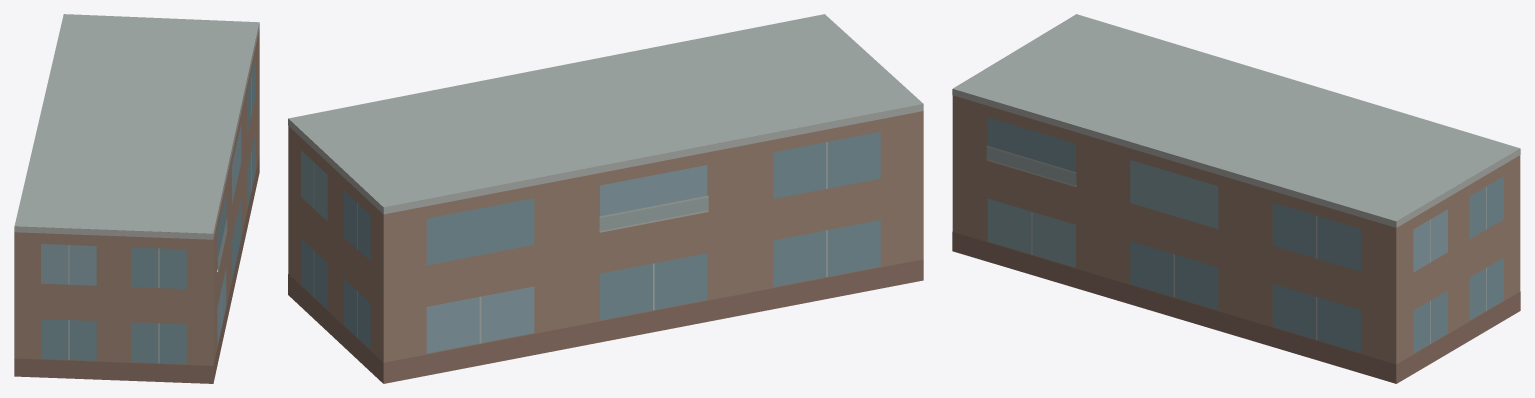
File: survey-upis-32871219.glb
3 renders of one model, left to right at view 1: azimuth 30°, elevation 25°; view 2: azimuth 150°, elevation 25°; view 3: azimuth 270°, elevation 25°, orthographic. The views are drawn at different scales.
Parts seen in each view (by area): view 1: survey-upis-32871219.tmp; view 2: survey-upis-32871219.tmp; view 3: survey-upis-32871219.tmp.
Part boxes in pixels (x1,y1,x2,y2): survey-upis-32871219.tmp: (14, 14, 259, 383); survey-upis-32871219.tmp: (288, 14, 923, 383); survey-upis-32871219.tmp: (952, 14, 1520, 383).
Bounding box in the file's own units: 16.71 × 6.1 × 19.34.
